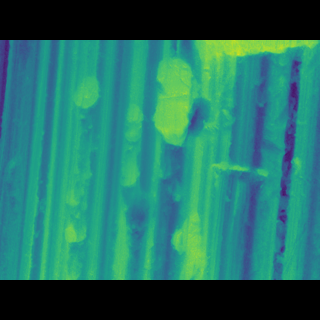Loch: (147, 80, 204, 152), (203, 67, 320, 98), (115, 117, 147, 181), (167, 198, 211, 243), (68, 95, 101, 123), (63, 205, 88, 222)
